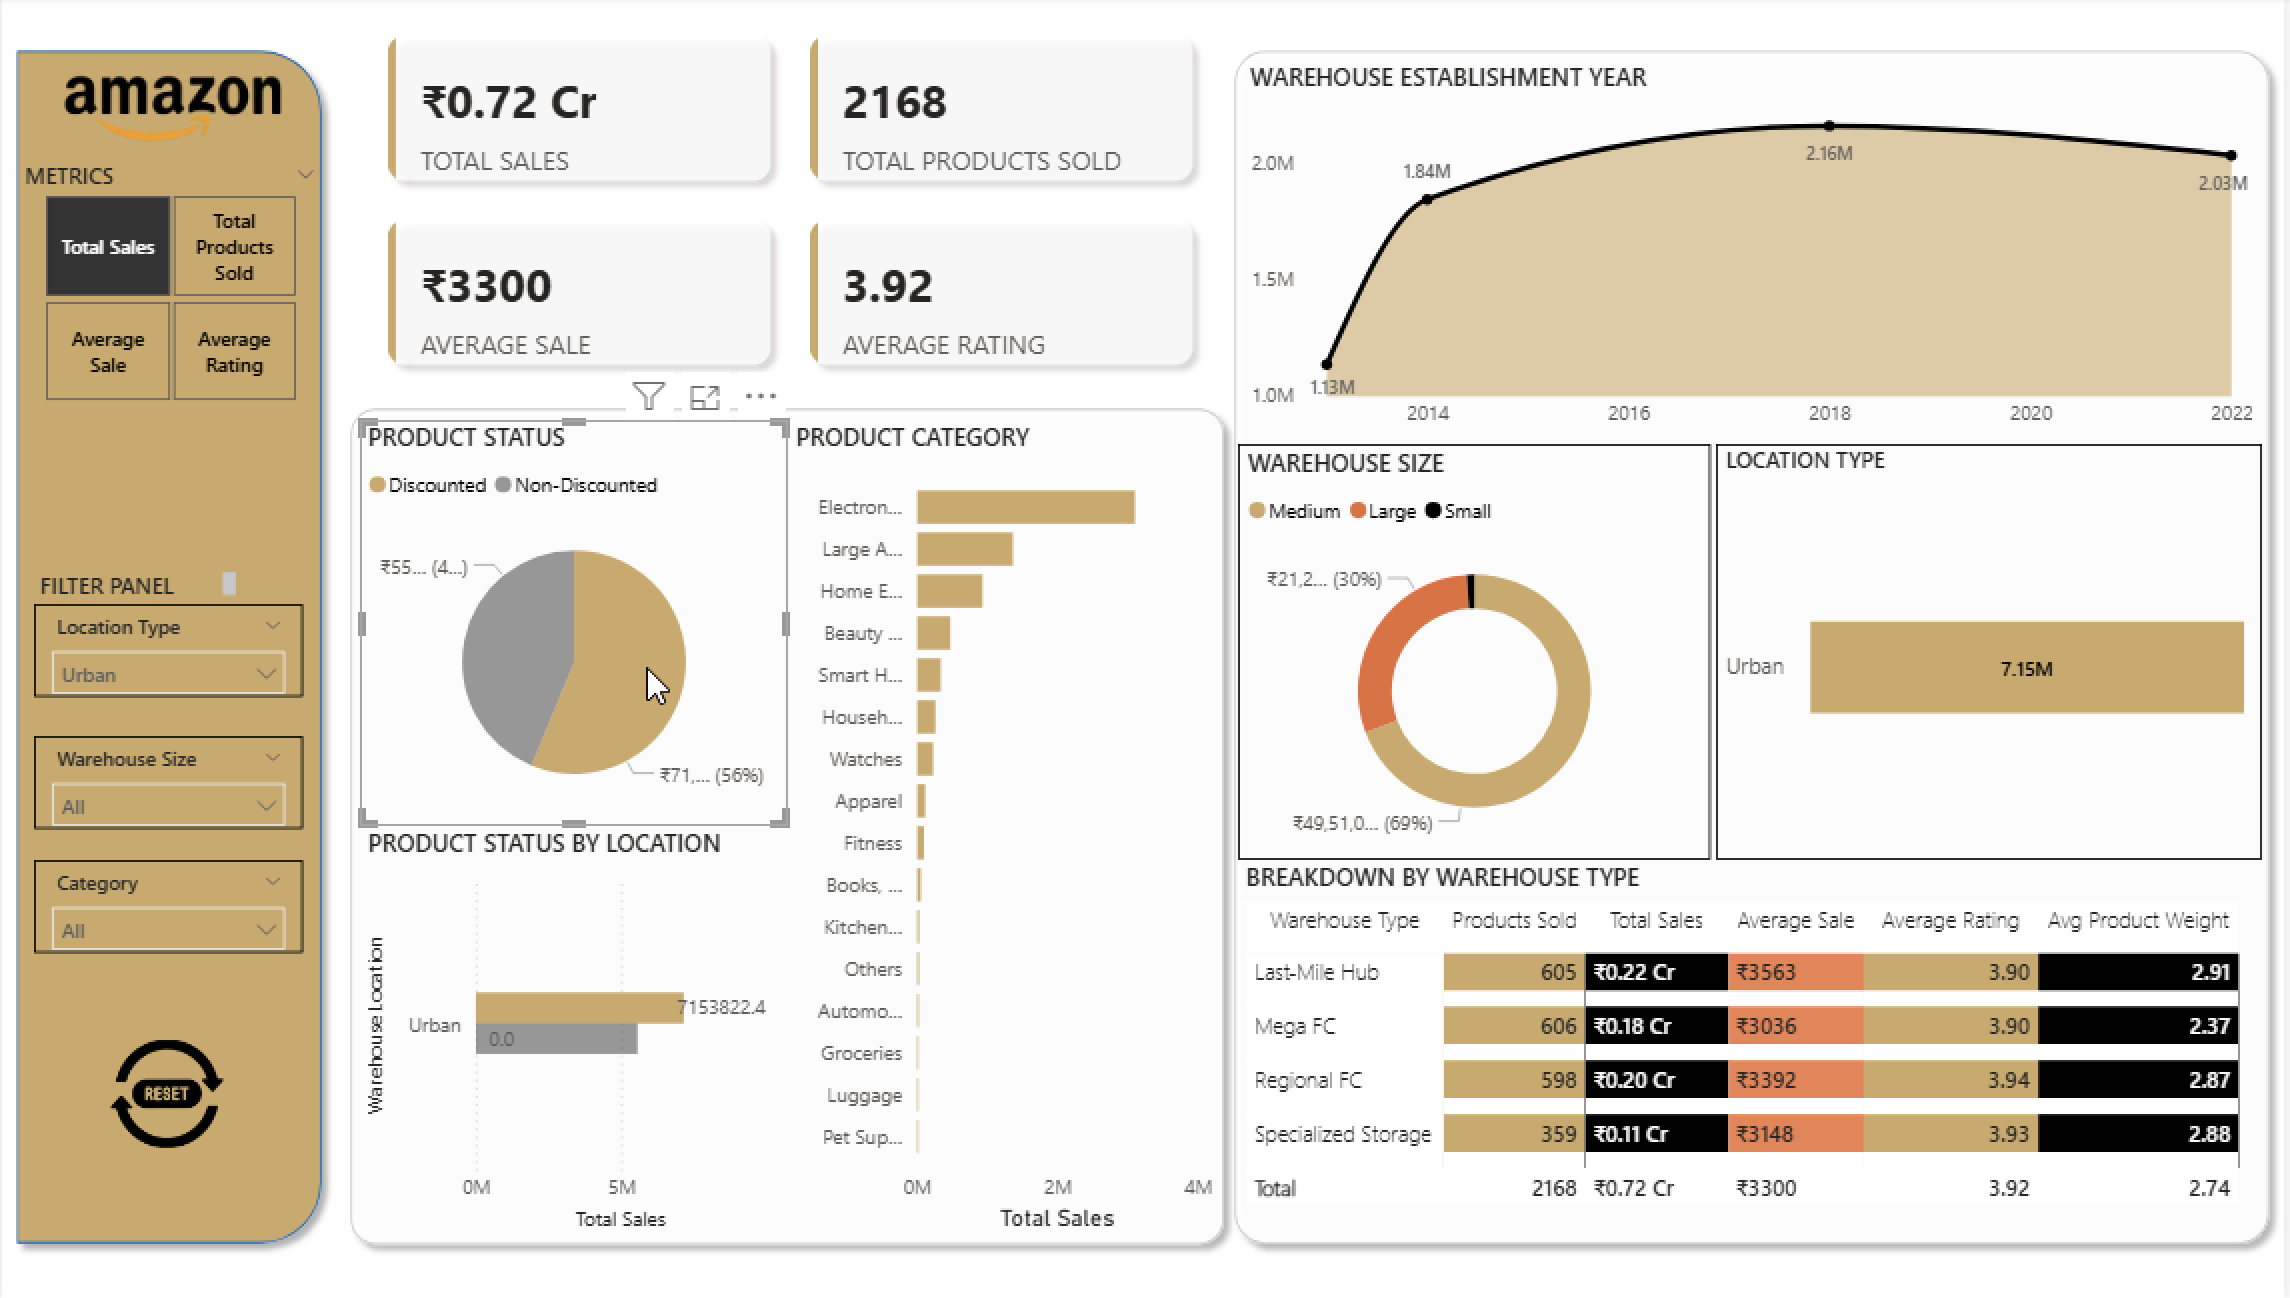

This screenshot's page, from the dashboard's own definition file:
{"tool":"powerbi","page":{"name":"Page 1","canvas":[1400,800],"ordinal":0},"visuals":[{"type":"shape","box":[0,24.9,205,749.7],"z":0},{"type":"image","box":[0,39.6,205.1,58],"z":1000},{"type":"cardVisual","fields":{"Data":["Sheet 1 - FINAL FILE.Total Sales","Sheet 1 - FINAL FILE.Total Products Sold","Sheet 1 - FINAL FILE.Average Sale","Sheet 1 - FINAL FILE.Average Rating"]},"box":[219.3,6.8,528,236.9],"z":2000},{"type":"shape","box":[204.4,243.7,553.8,530.8],"z":3000},{"type":"pieChart","title":"PRODUCT STATUS","fields":{"Y":["Sheet 1 - FINAL FILE.Overall Sales"],"Category":["Sheet 1 - FINAL FILE.Product Status"]},"box":[219.3,260,262.7,249.1],"z":4000},{"type":"slicer","fields":{"Values":["Metrics.Metrics"]},"box":[1.4,97.5,203.1,158.4],"z":5000},{"type":"clusteredBarChart","title":"PRODUCT STATUS BY LOCATION","fields":{"Y":["Sheet 1 - FINAL FILE.Overall Sales"],"Category":["Sheet 1 - FINAL FILE.Warehouse Location"],"Series":["Sheet 1 - FINAL FILE.Product Status"]},"box":[219.3,509.1,262.7,253.2],"z":6000},{"type":"barChart","title":"PRODUCT CATEGORY","fields":{"Y":["Sheet 1 - FINAL FILE.Overall Sales"],"Category":["Sheet 1 - FINAL FILE.Category"]},"box":[482,260,265.4,502.3],"z":7000},{"type":"shape","box":[747.4,24.4,652.6,750.1],"z":8000},{"type":"lineChart","title":"WAREHOUSE ESTABLISHMENT YEAR","fields":{"Y":["Sheet 1 - FINAL FILE.Overall Sales"],"Category":["Sheet 1 - FINAL FILE.Warehouse Establishment Year"]},"box":[761,39.2,625,235.4],"z":9000},{"type":"donutChart","title":"WAREHOUSE SIZE","fields":{"Y":["Sheet 1 - FINAL FILE.Overall Sales"],"Category":["Sheet 1 - FINAL FILE.Warehouse Size"]},"box":[758.2,274.7,290.1,255.1],"z":10000},{"type":"funnel","title":"LOCATION TYPE","fields":{"Category":["Sheet 1 - FINAL FILE.Warehouse Location"],"Y":["Sheet 1 - FINAL FILE.Overall Sales"]},"box":[1051.1,274.7,334.9,255.1],"z":11000},{"type":"pivotTable","title":"BREAKDOWN BY WAREHOUSE TYPE","fields":{"Rows":["Sheet 1 - FINAL FILE.Warehouse Type"],"Values":["Sheet 1 - FINAL FILE.Products Sold","Sheet 1 - FINAL FILE.Total Sales","Sheet 1 - FINAL FILE.Average Sale","Sheet 1 - FINAL FILE.Average Rating","Avg(Sheet 1 - FINAL FILE.Product Weight)"]},"box":[758.2,529.7,626.4,232.6],"z":12000},{"type":"slicer","fields":{"Values":["Sheet 1 - FINAL FILE.Warehouse Location"]},"box":[19.6,372.8,165.4,57.5],"z":13000},{"type":"slicer","fields":{"Values":["Sheet 1 - FINAL FILE.Warehouse Size"]},"box":[19.6,454.1,165.4,57.5],"z":14000},{"type":"slicer","fields":{"Values":["Sheet 1 - FINAL FILE.Category"]},"box":[19.6,529.7,165.4,57.5],"z":15000},{"type":"textbox","box":[19,348,130,24.4],"z":16000},{"type":"image","box":[58.8,635.1,84.8,76.1],"z":17000}]}

Visuals, with their boxes in screenshot pixels (x1, y1, x2, y2), scaled from the page's 1400x800 canvas onto the 2290x1298 screenshot:
shape: (left=0, top=40, right=335, bottom=1257)
image: (left=0, top=64, right=335, bottom=158)
cardVisual - Sheet 1 - FINAL FILE.Total Sales x Sheet 1 - FINAL FILE.Total Products Sold: (left=359, top=11, right=1222, bottom=395)
shape: (left=334, top=395, right=1240, bottom=1257)
"PRODUCT STATUS" pieChart: (left=359, top=422, right=788, bottom=826)
slicer - Metrics.Metrics: (left=2, top=158, right=335, bottom=415)
"PRODUCT STATUS BY LOCATION" clusteredBarChart: (left=359, top=826, right=788, bottom=1237)
"PRODUCT CATEGORY" barChart: (left=788, top=422, right=1223, bottom=1237)
shape: (left=1223, top=40, right=2289, bottom=1257)
"WAREHOUSE ESTABLISHMENT YEAR" lineChart: (left=1245, top=64, right=2267, bottom=446)
"WAREHOUSE SIZE" donutChart: (left=1240, top=446, right=1715, bottom=860)
"LOCATION TYPE" funnel: (left=1719, top=446, right=2267, bottom=860)
"BREAKDOWN BY WAREHOUSE TYPE" pivotTable: (left=1240, top=859, right=2265, bottom=1237)
slicer - Sheet 1 - FINAL FILE.Warehouse Location: (left=32, top=605, right=303, bottom=698)
slicer - Sheet 1 - FINAL FILE.Warehouse Size: (left=32, top=737, right=303, bottom=830)
slicer - Sheet 1 - FINAL FILE.Category: (left=32, top=859, right=303, bottom=953)
textbox: (left=31, top=565, right=244, bottom=604)
image: (left=96, top=1030, right=235, bottom=1154)
